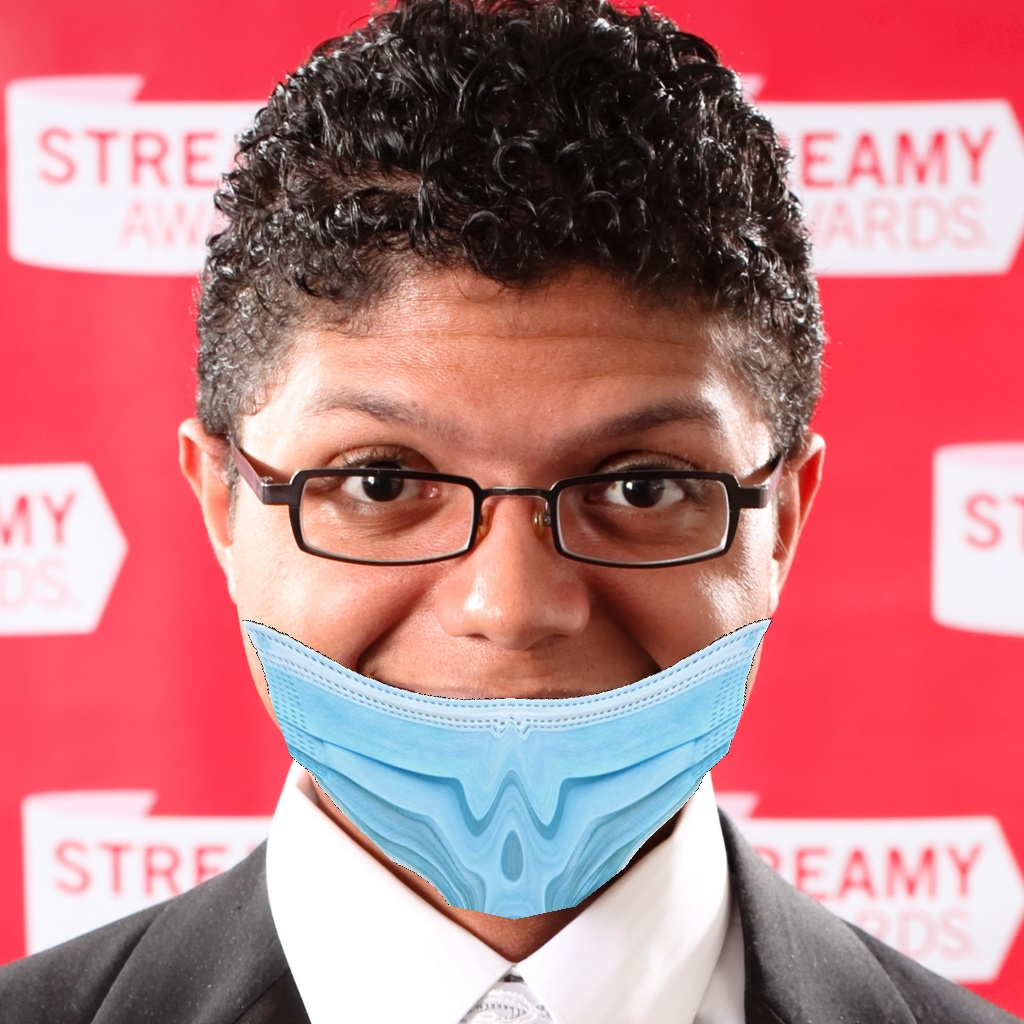Mask_Mouth_Chin: (228, 391, 790, 918)
